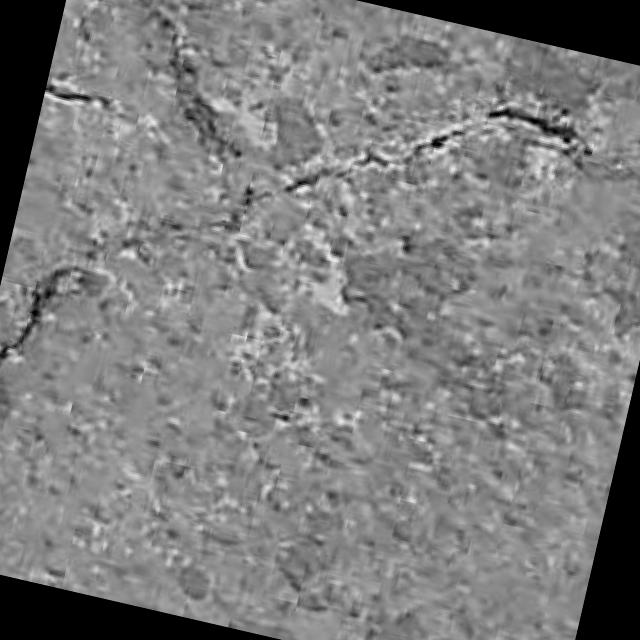crack: (226, 105, 590, 233), (137, 0, 241, 162), (0, 265, 88, 367), (44, 82, 111, 108)
